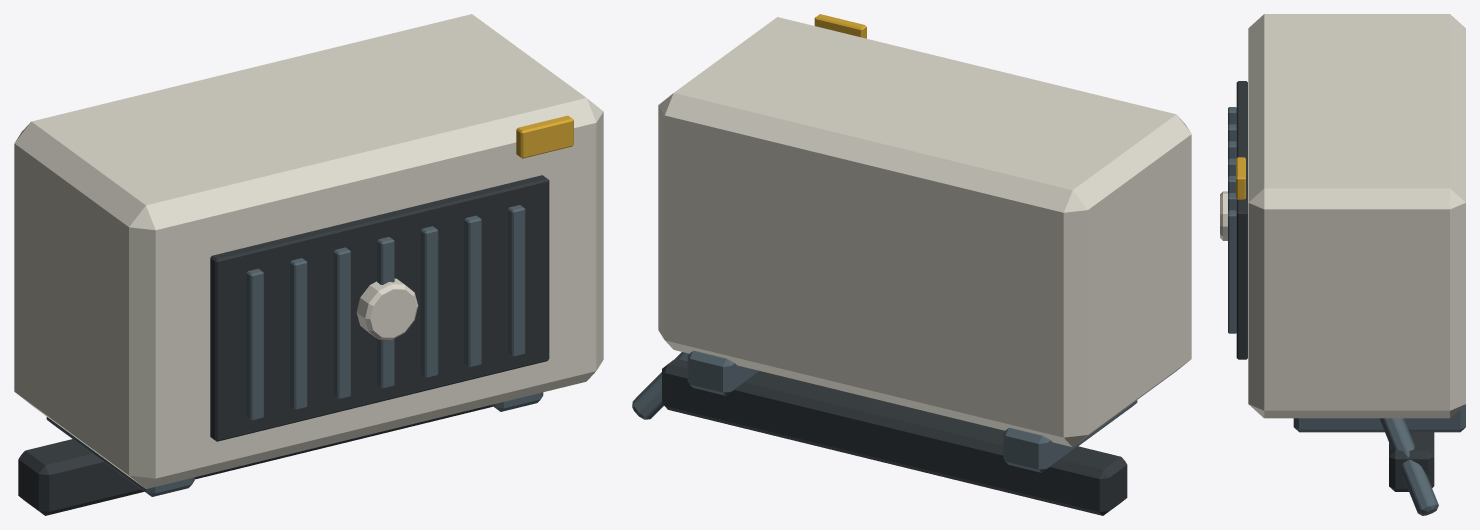
The model's file is PRP_CITY_002_ac_unit.glb.
The picture shows the model from 3 angles, left to right: view 1: azimuth 30°, elevation 25°; view 2: azimuth 150°, elevation 25°; view 3: azimuth 270°, elevation 25°; orthographic projection. The views are drawn at different scales.
Visible parts, largest first — view 1: PRP_CITY_002_ac_unit_RenderMesh; view 2: PRP_CITY_002_ac_unit_RenderMesh; view 3: PRP_CITY_002_ac_unit_RenderMesh.
Part boxes in pixels (box(x1,y1,x2,y2)): PRP_CITY_002_ac_unit_RenderMesh: box(14, 14, 603, 515); PRP_CITY_002_ac_unit_RenderMesh: box(632, 14, 1191, 515); PRP_CITY_002_ac_unit_RenderMesh: box(1220, 14, 1465, 515).
Bounding box in the file's own units: 1.09 × 0.7525 × 0.5425.
